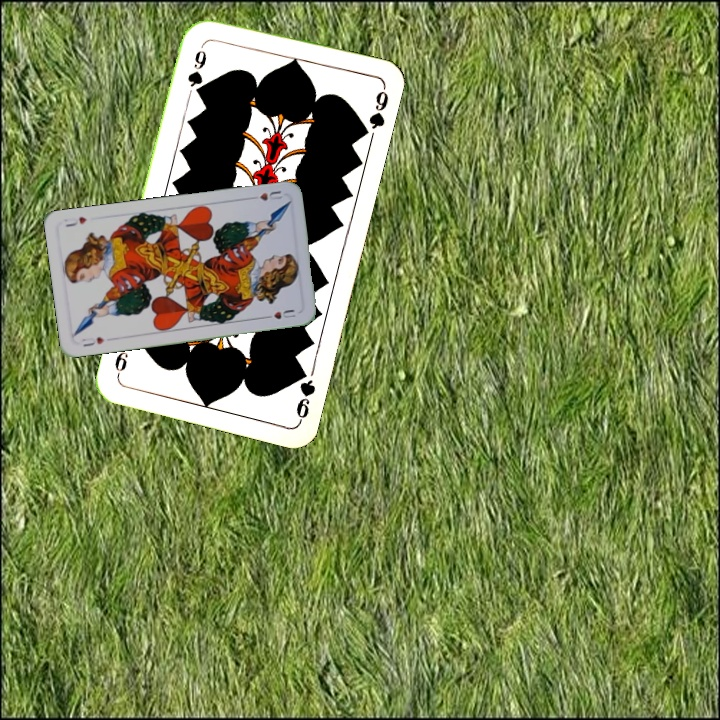G9: (292, 363, 318, 424), (183, 39, 209, 98)
HU: (245, 187, 286, 203), (78, 333, 107, 349)
